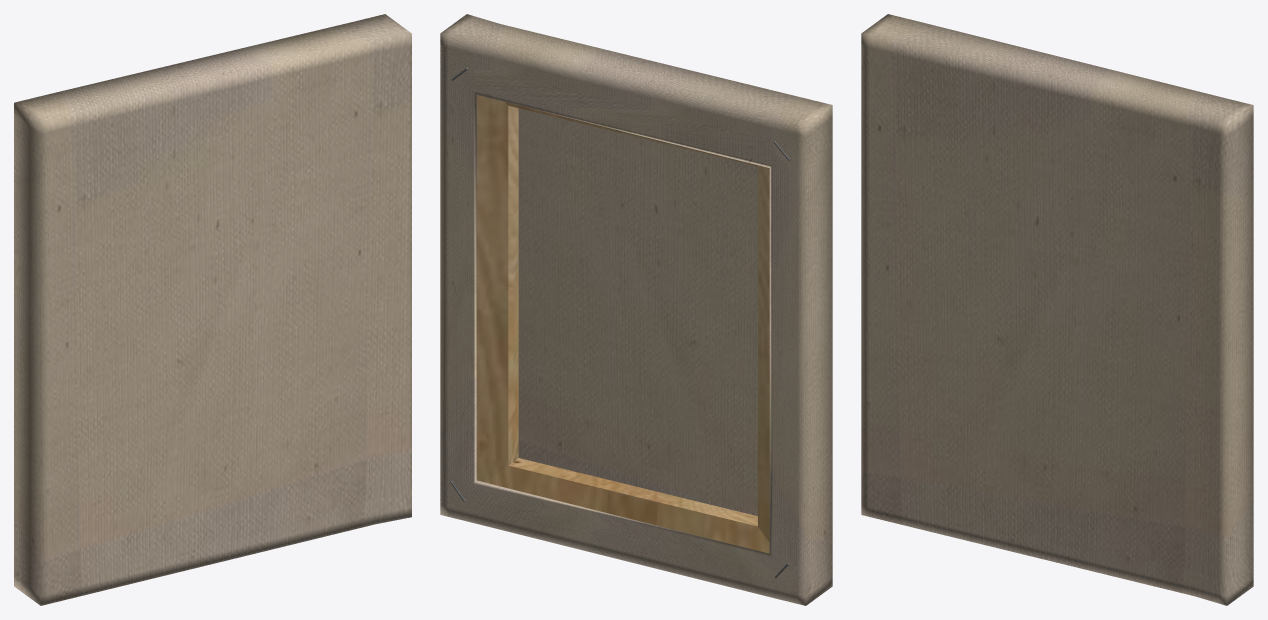
The model's file is canvas.fbx.
3 renders of one model, left to right at view 1: azimuth 30°, elevation 25°; view 2: azimuth 150°, elevation 25°; view 3: azimuth 330°, elevation 25°, orthographic.
Parts seen in each view (by area): view 1: Canvas; view 2: Canvas, Wooden Frame; view 3: Canvas.
Boxes of the visible parts, x1,y1,x2,y2 form: Canvas: (14, 14, 411, 605); Canvas: (440, 14, 832, 605); Wooden Frame: (476, 95, 769, 553); Canvas: (861, 14, 1253, 605).
Size of the model in its own units: 2.6 by 3.25 by 0.3623.
